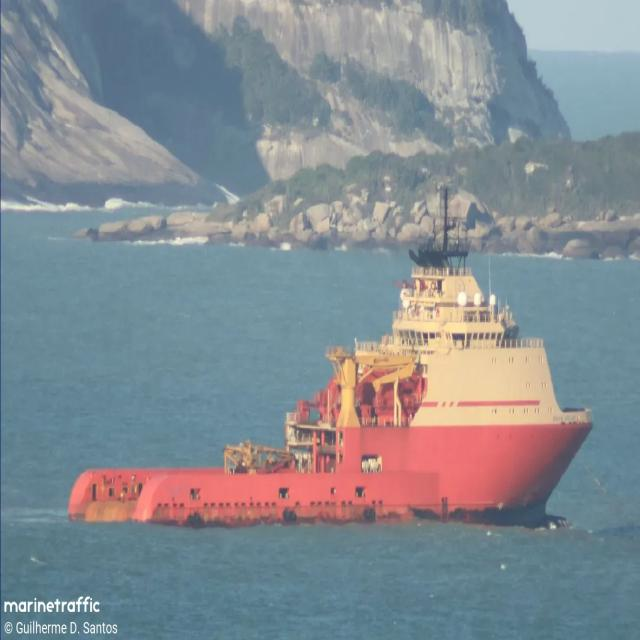Offshore: (68, 188, 592, 529)
